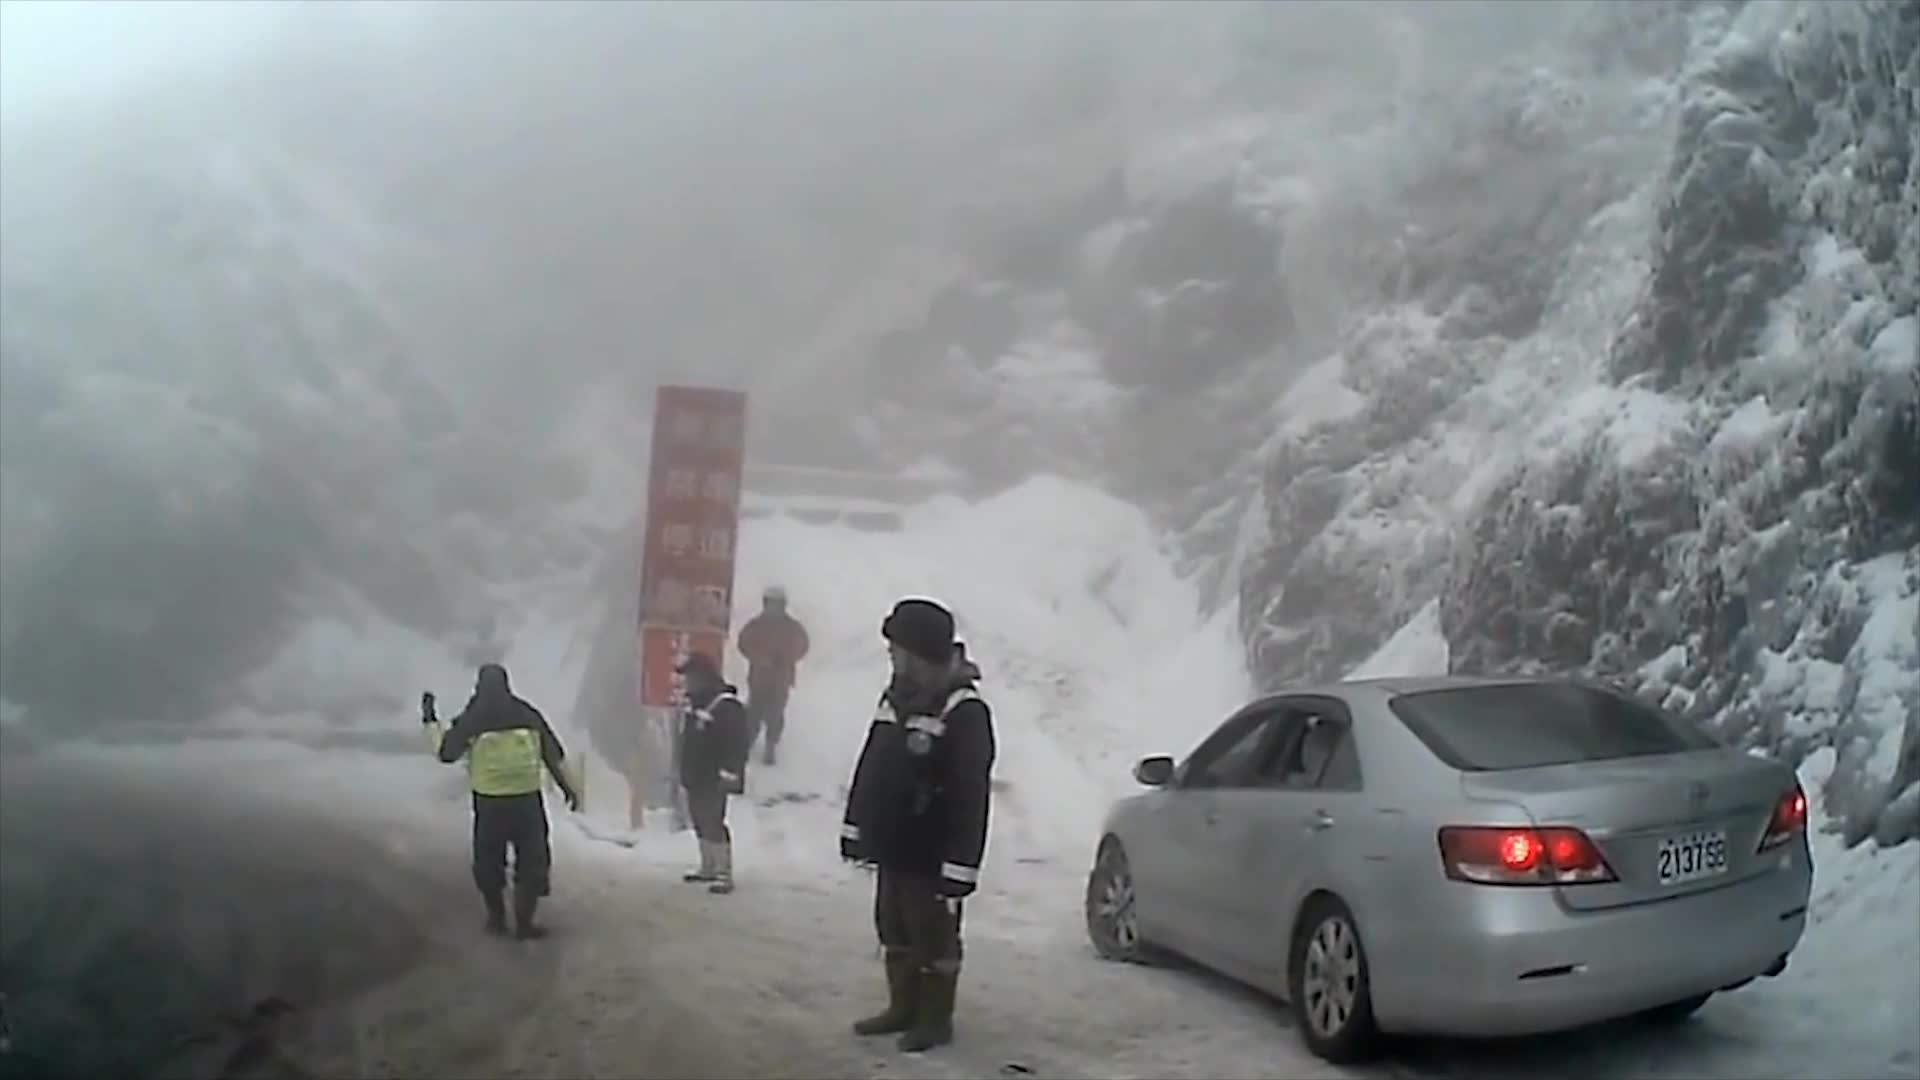pedestrian: (844, 598, 1005, 1053), (427, 665, 585, 937), (673, 647, 756, 890), (743, 582, 814, 768)
vehicle: (1086, 677, 1813, 1066)
